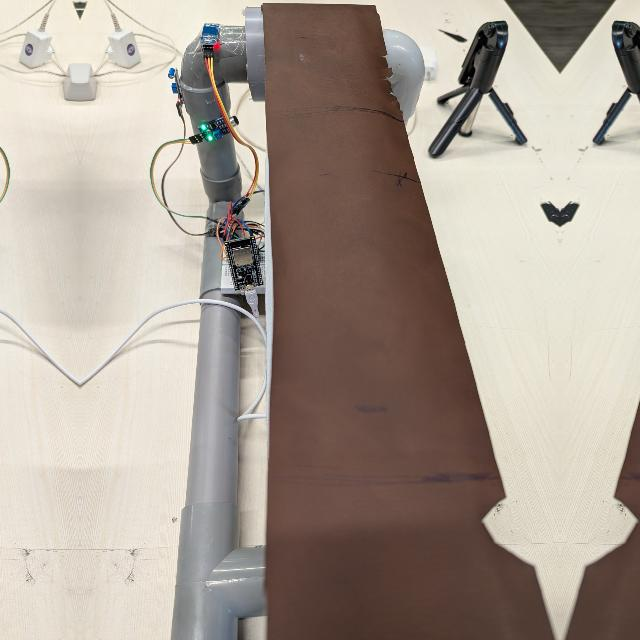belt_tear: (466, 468, 539, 581), (581, 468, 640, 581)
edge_damage: (372, 33, 409, 131)
